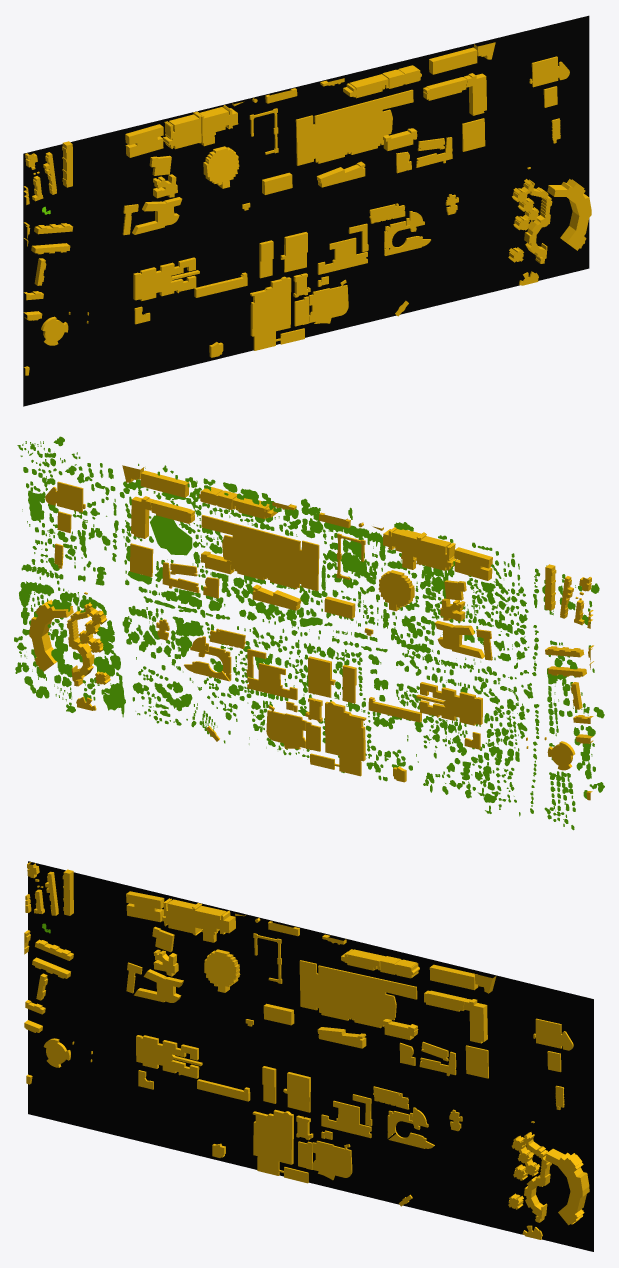
Rendered from new_trees_09.glb.
3 views of the same model, one above another, from view 1: azimuth 30°, elevation 25°; view 2: azimuth 150°, elevation 25°; view 3: azimuth 330°, elevation 25° (orthographic).
Parts seen in each view (by area): view 1: Layer 04, existing_building - Copy; view 2: existing_building - Copy, new trees, treesurface; view 3: Layer 04, existing_building - Copy.
Part boxes in pixels (x1=…): Layer 04: x1=23, y1=15, x2=589, y2=406; existing_building - Copy: x1=23, y1=42, x2=591, y2=375; existing_building - Copy: x1=29, y1=465, x2=593, y2=800; new trees: x1=19, y1=441, x2=599, y2=828; treesurface: x1=14, y1=436, x2=604, y2=830; Layer 04: x1=28, y1=861, x2=593, y2=1251; existing_building - Copy: x1=24, y1=862, x2=589, y2=1239.
Bounding box in the file's own units: 1035 × 458 × 20.85.
